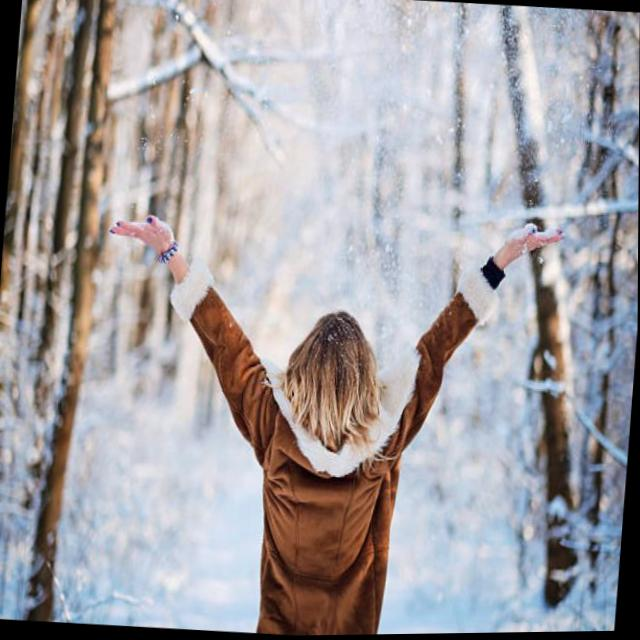no helmet: (250, 299, 405, 476)
